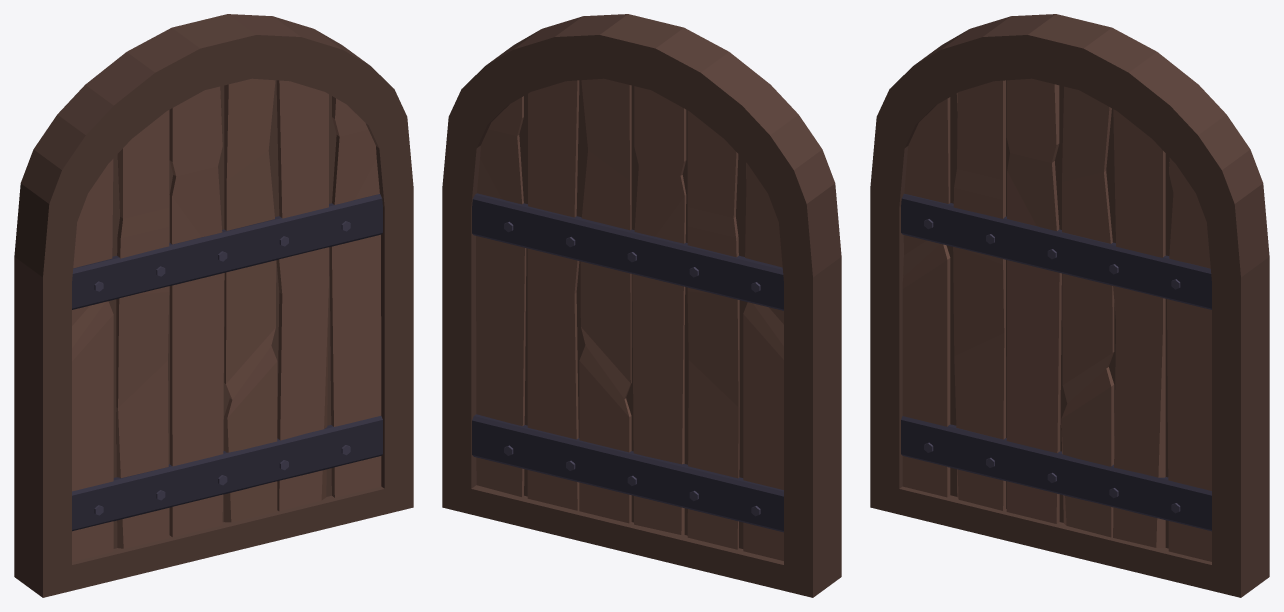
The model's file is Arch_Door_bottompivot.glb.
3 views of the same model, side by side, from view 1: azimuth 30°, elevation 25°; view 2: azimuth 150°, elevation 25°; view 3: azimuth 330°, elevation 25° (orthographic).
Visible parts, largest first — view 1: Arch_Door_bottompivot; view 2: Arch_Door_bottompivot; view 3: Arch_Door_bottompivot.
Part boxes in pixels (x1,y1,x2,y2): Arch_Door_bottompivot: (14,14,413,597); Arch_Door_bottompivot: (442,14,841,597); Arch_Door_bottompivot: (870,14,1269,597).
Size of the model in its own units: 0.6053 by 0.7975 by 0.0824.
